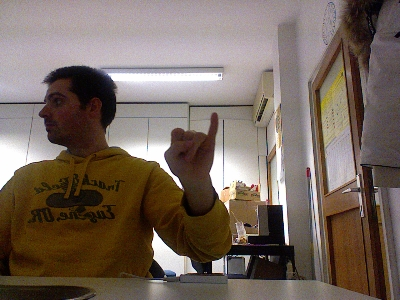小指: (162, 112, 218, 180)
